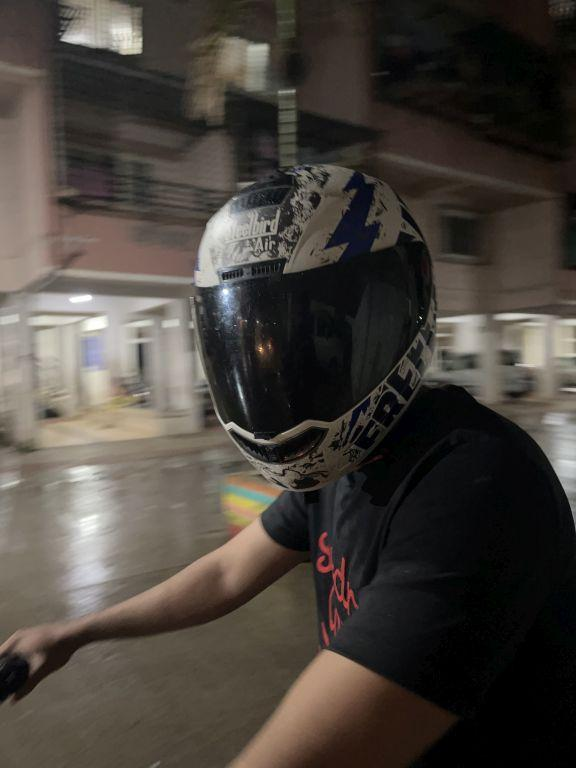helmet: (177, 149, 448, 499)
